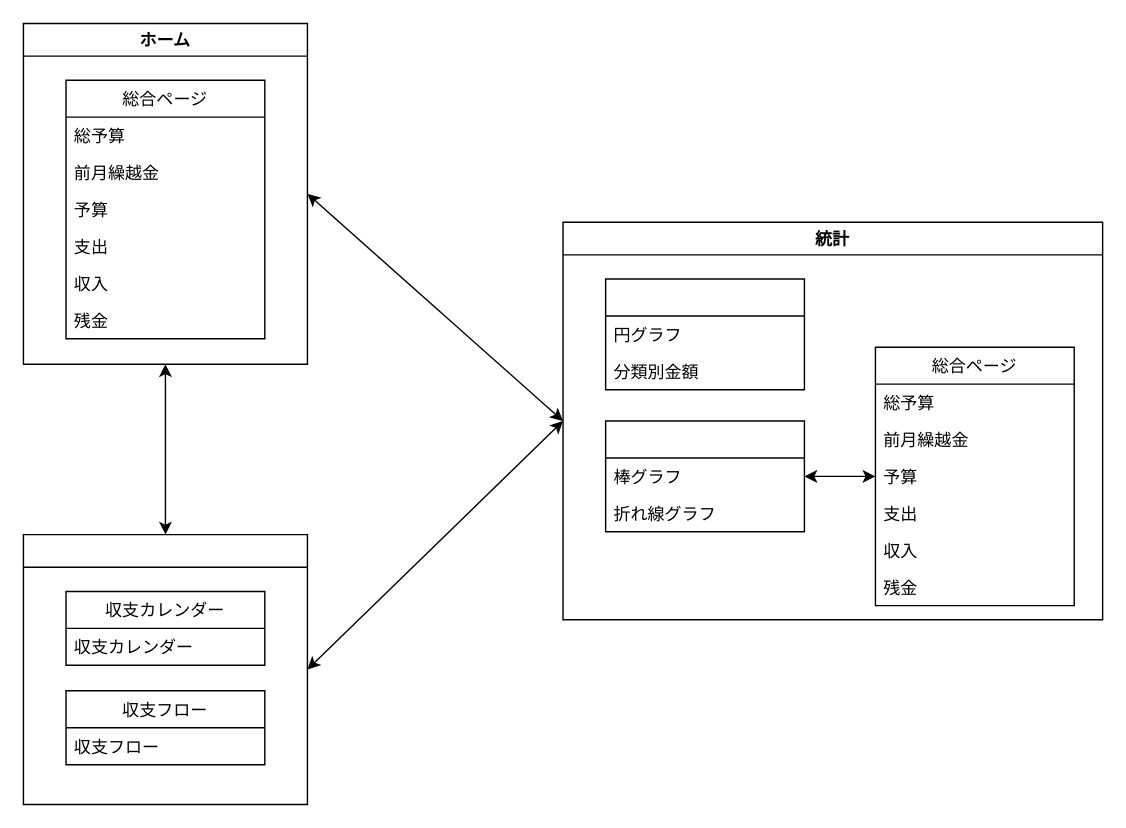
This 1126x828 diagram has some shape labels left out. Here are the shapes that lost their labels. From the top down, the box of each, then its label:
(604, 278, 804, 390): 月別内訳
(604, 420, 804, 532): 遷移
(22, 533, 307, 804): 収支履歴
